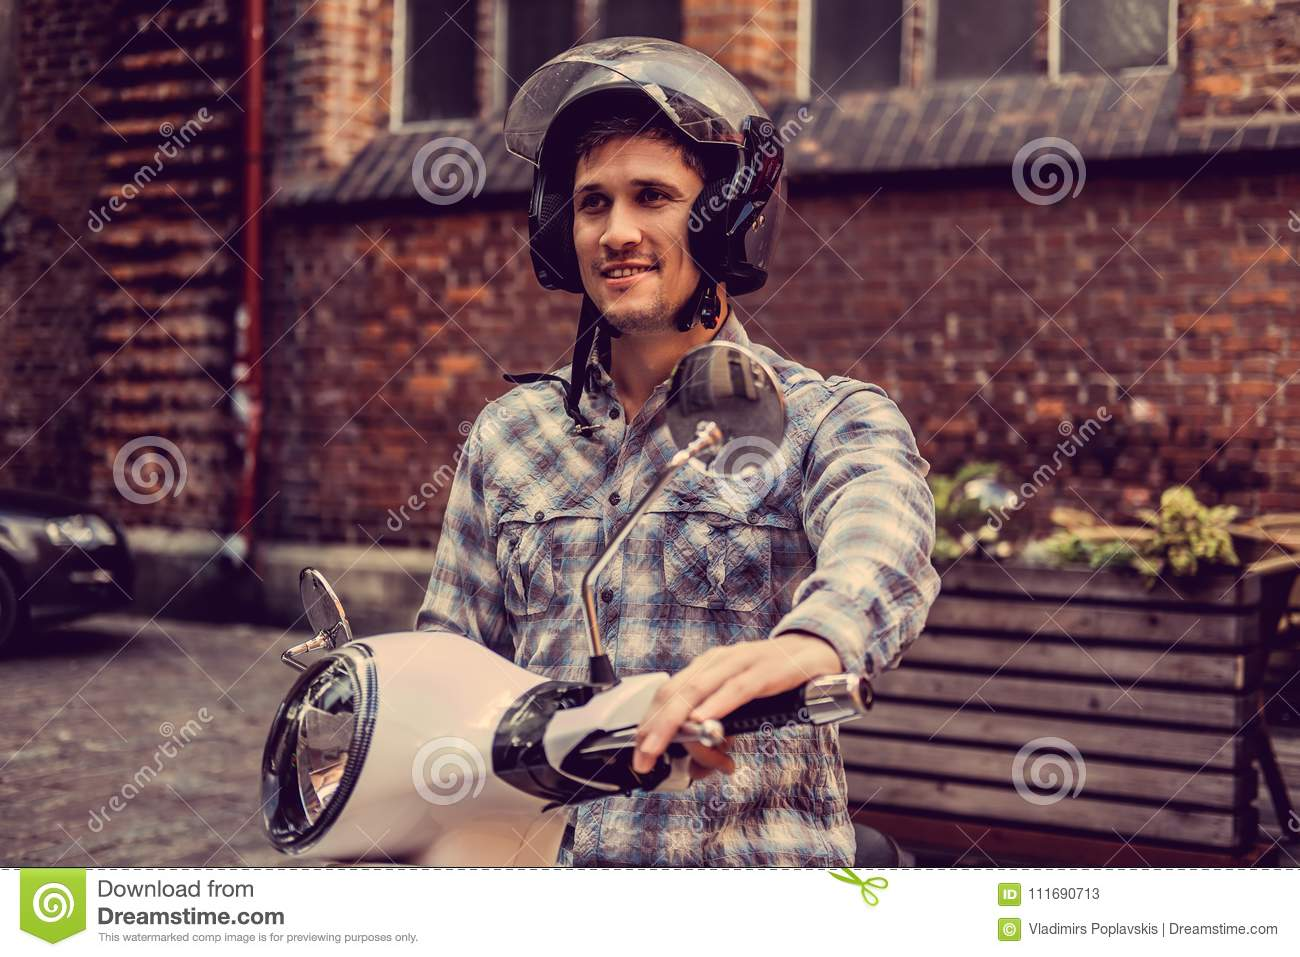helmet: (517, 67, 785, 301)
